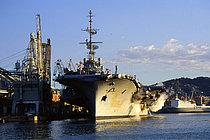MIL_Ship: (57, 8, 152, 119)
